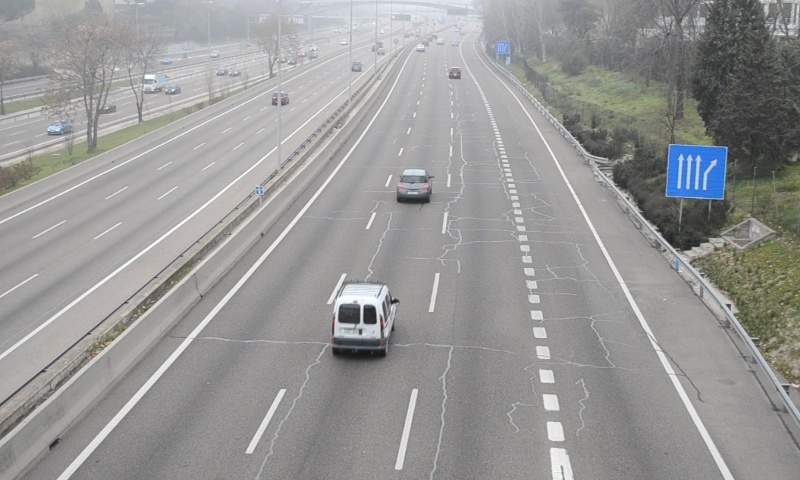car: (396, 168, 431, 199)
van: (332, 284, 396, 353)
